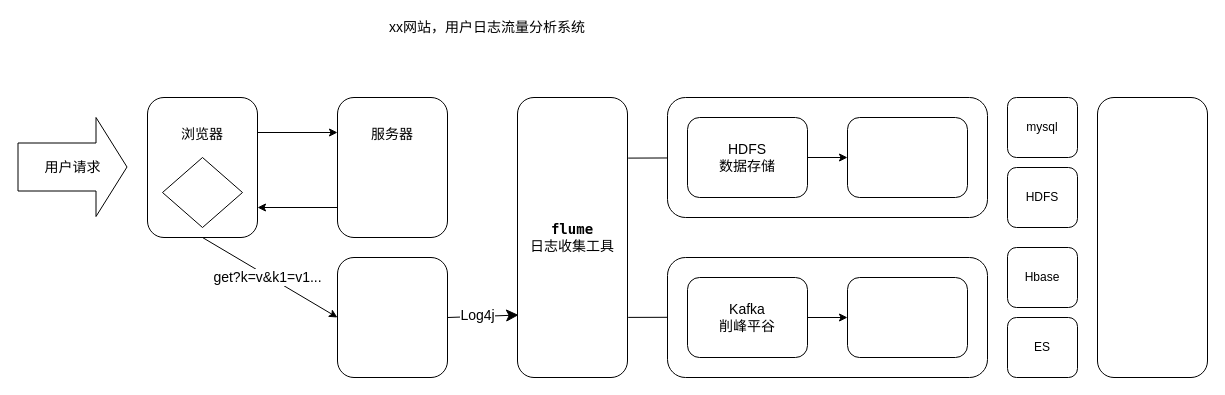
Image size: 1225x395. Some labels were removed from this diagram. The shapes that lost their labels are listed below. From the top down, each one's centre as x and y in pixels, then its label:
At pixel 907 157: "Hive 数据处理 数据清洗".
At pixel 202 192: "JS 埋点".
At pixel 1152 237: "页面展示".
At pixel 392 317: "日志收集服务器 LogServlet".
At pixel 907 317: "Storm 实时分析".
